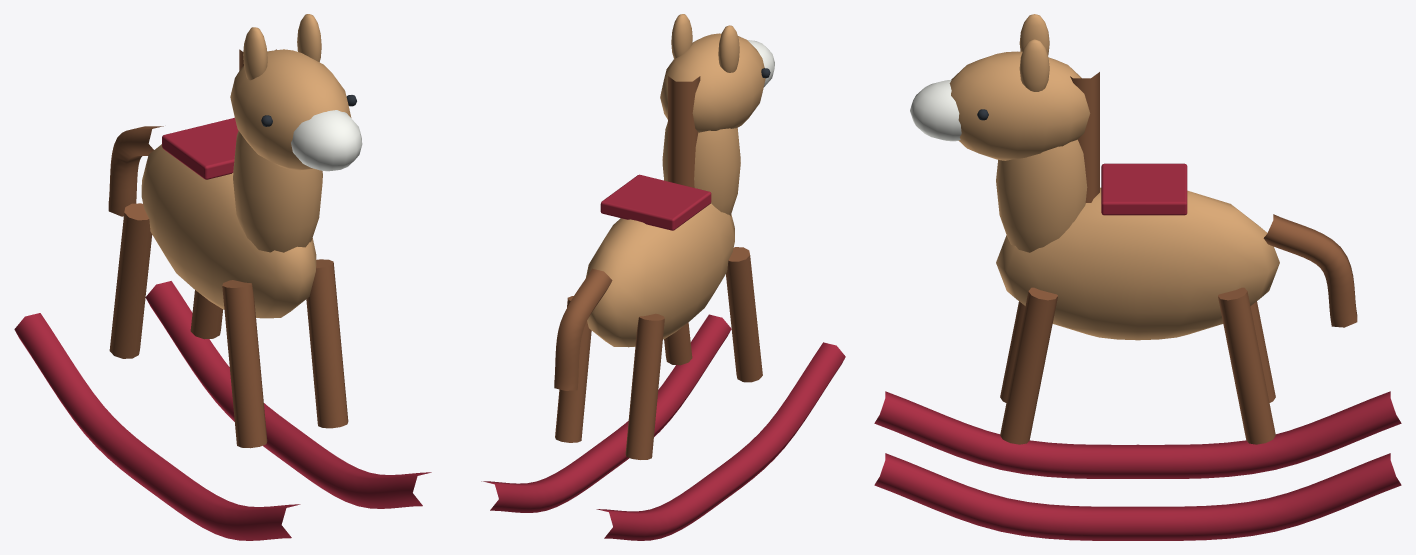
The model's file is christmas-storybook-rocking-horse-bb590683__18751.glb.
The picture shows the model from 3 angles, left to right: view 1: azimuth 30°, elevation 25°; view 2: azimuth 150°, elevation 25°; view 3: azimuth 270°, elevation 25°; orthographic projection. The views are drawn at different scales.
Parts seen in each view (by area): view 1: biscuit, berry, oak, cream; view 2: biscuit, berry, oak; view 3: biscuit, berry, oak, cream.
Boxes of the visible parts, x1,y1,x2,y2 form: biscuit: [141, 14, 351, 318]; berry: [14, 117, 431, 540]; oak: [108, 49, 348, 448]; cream: [291, 110, 362, 171]; biscuit: [586, 14, 765, 347]; berry: [481, 174, 845, 540]; oak: [554, 76, 762, 459]; biscuit: [949, 14, 1279, 340]; berry: [874, 163, 1401, 540]; oak: [1000, 72, 1357, 444]; cream: [910, 80, 961, 141].
Size of the model in its own units: 0.42 by 1.23 by 1.23.
